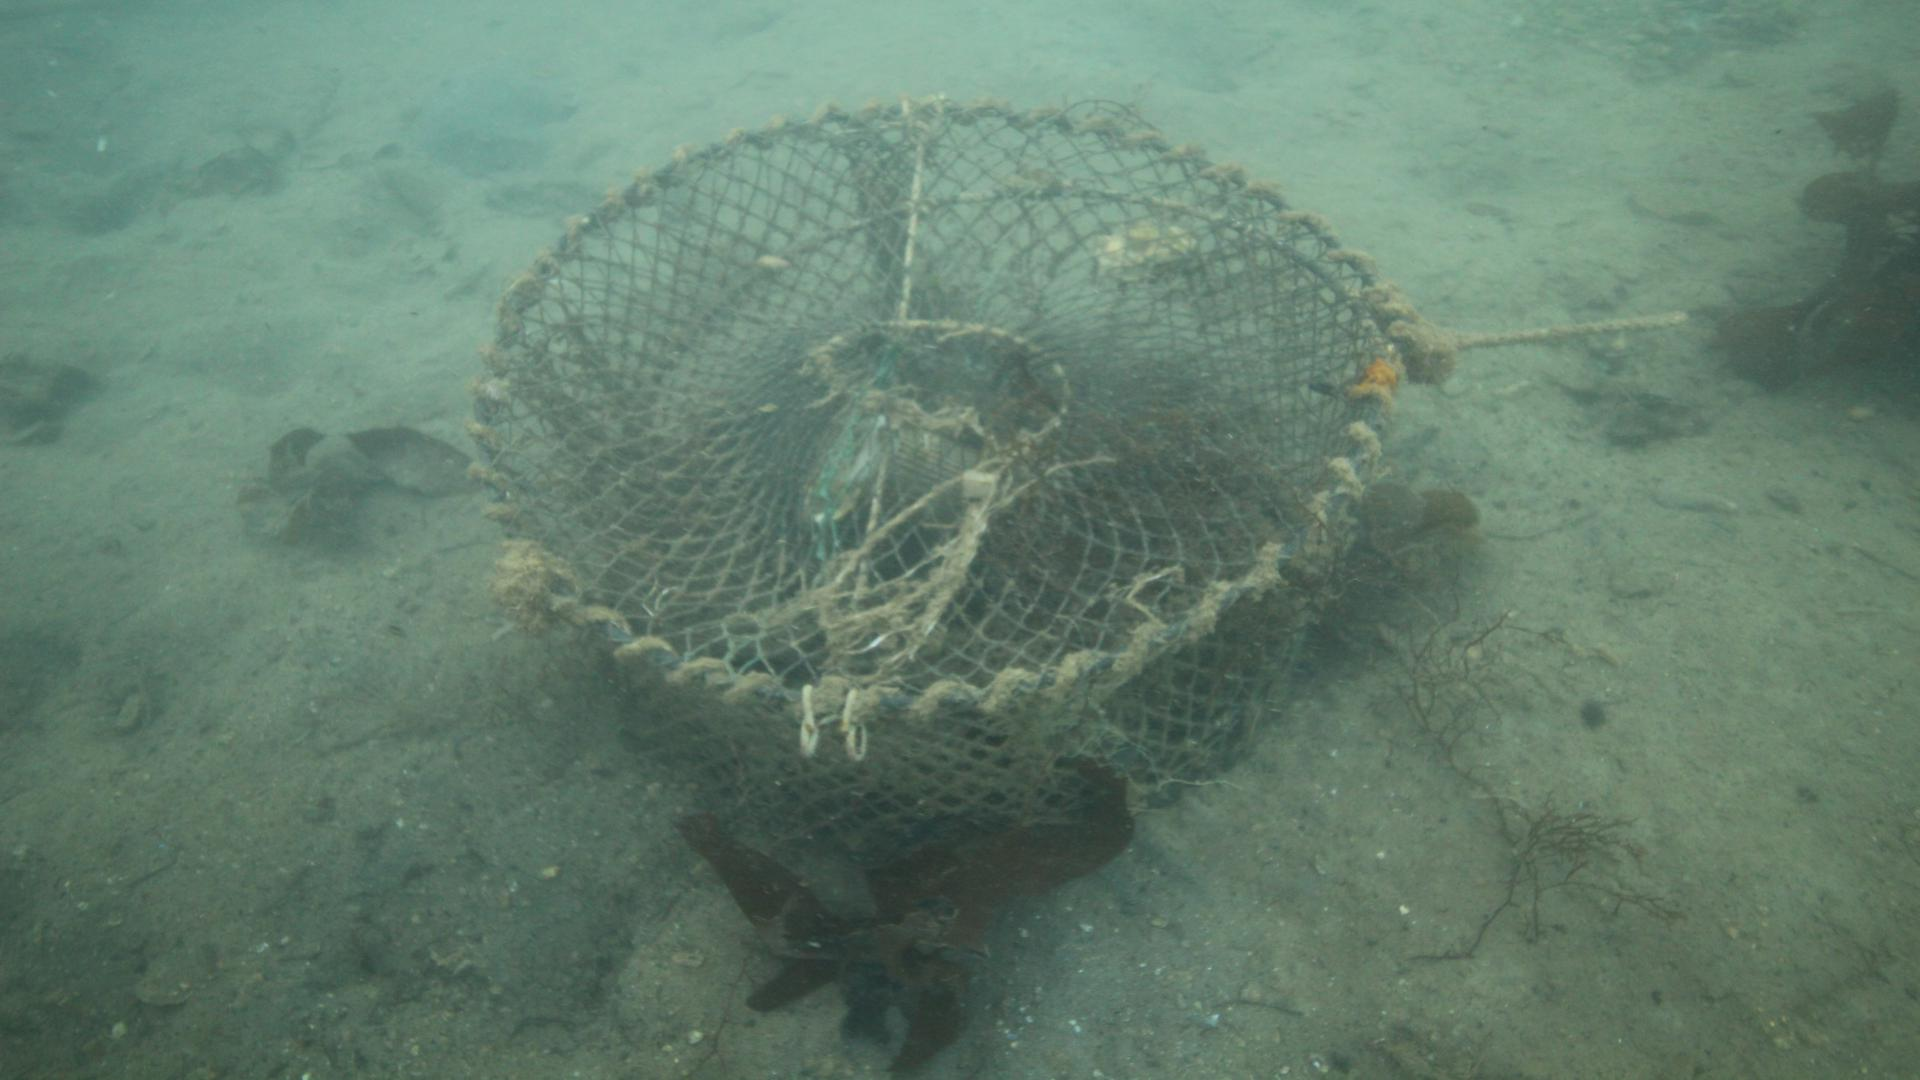circular fish trap: (463, 91, 1396, 853)
rope: (1422, 311, 1687, 349)
